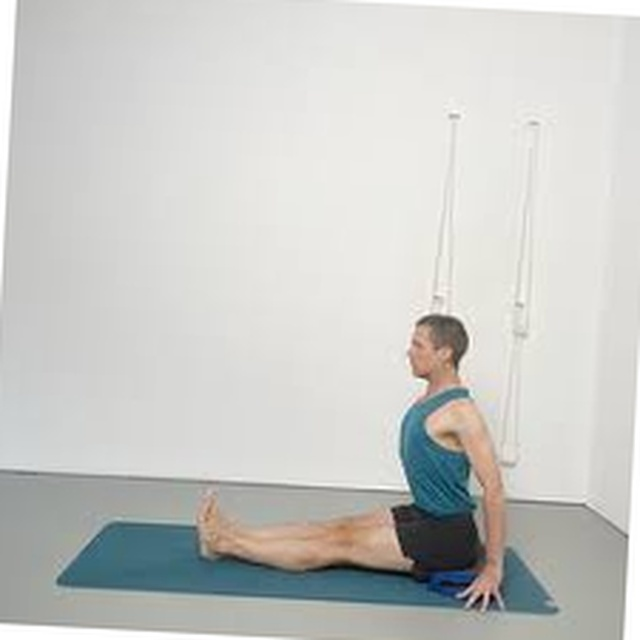Staff_Pose: (197, 314, 516, 615)
